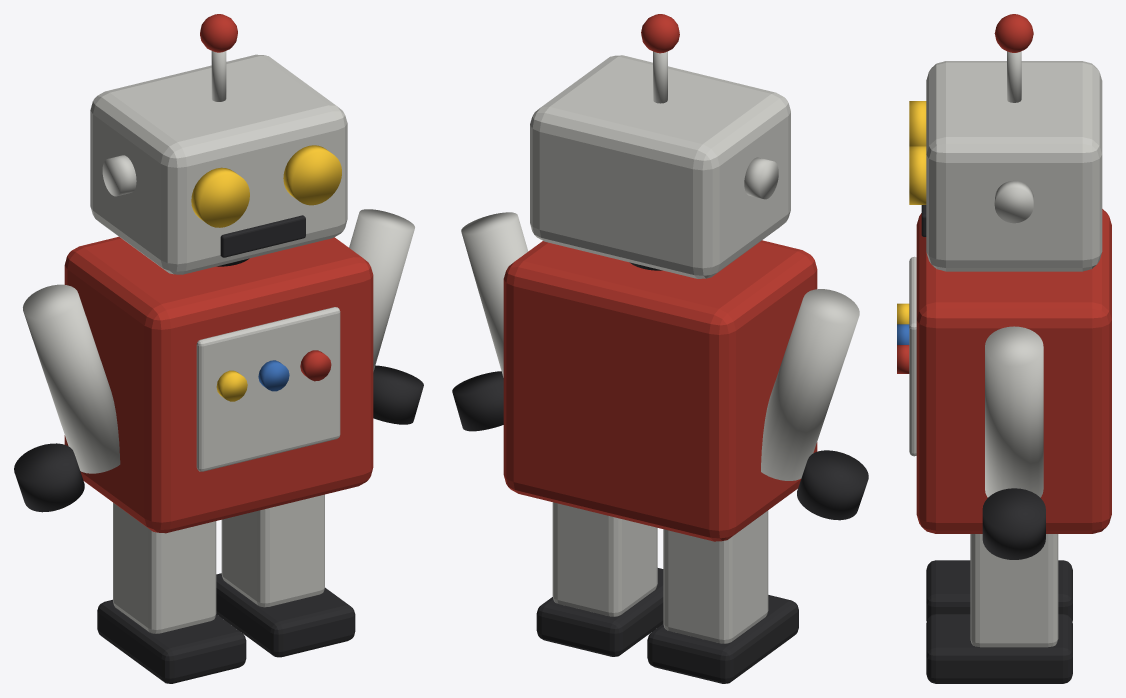
3 renders of one model, left to right at view 1: azimuth 30°, elevation 25°; view 2: azimuth 150°, elevation 25°; view 3: azimuth 270°, elevation 25°, orthographic.
Parts seen in each view (by area): view 1: fig-tin-robot; view 2: fig-tin-robot; view 3: fig-tin-robot.
Boxes of the visible parts, bbox=[...] form: fig-tin-robot: bbox=[14, 14, 423, 683]; fig-tin-robot: bbox=[452, 14, 868, 683]; fig-tin-robot: bbox=[897, 14, 1111, 683].
Bounding box in the file's own units: 0.0816 × 0.12 × 0.0374.
